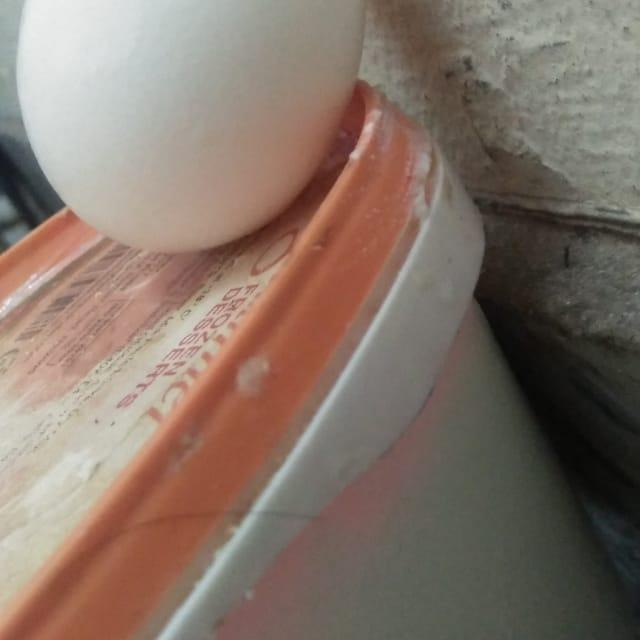egg: (12, 0, 371, 255)
